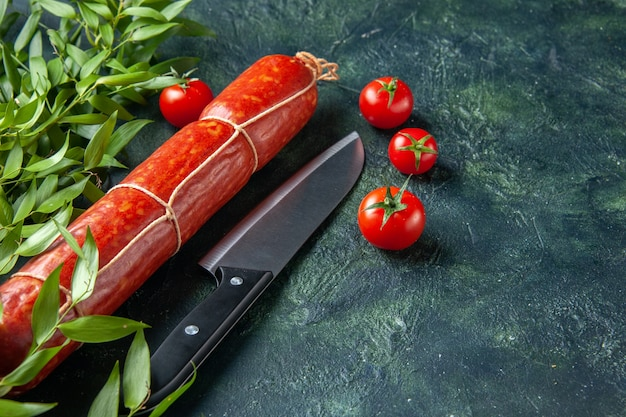knife: (132, 130, 367, 417)
